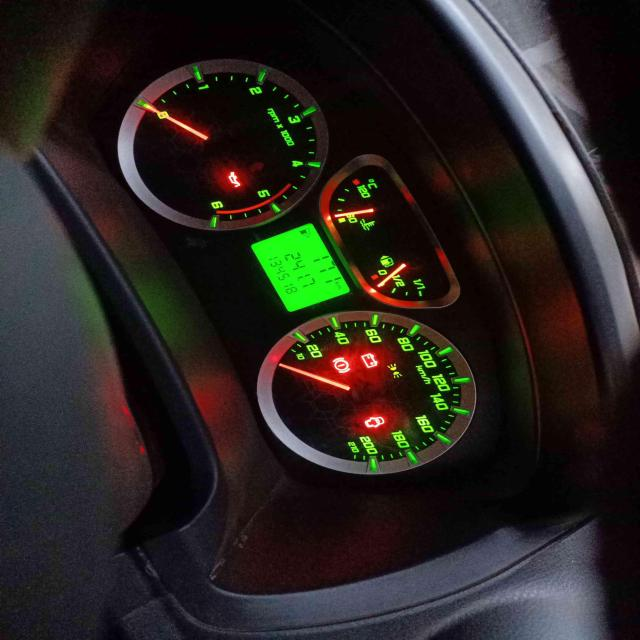Braking System Issue: (332, 357, 352, 373)
Charging System Issue: (361, 353, 379, 369)
Low Engine Oil Warning Light: (228, 171, 241, 188)
